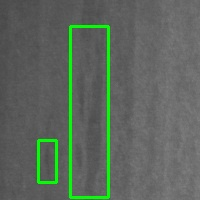inclusion: (70, 26, 108, 197), (38, 140, 56, 182)
